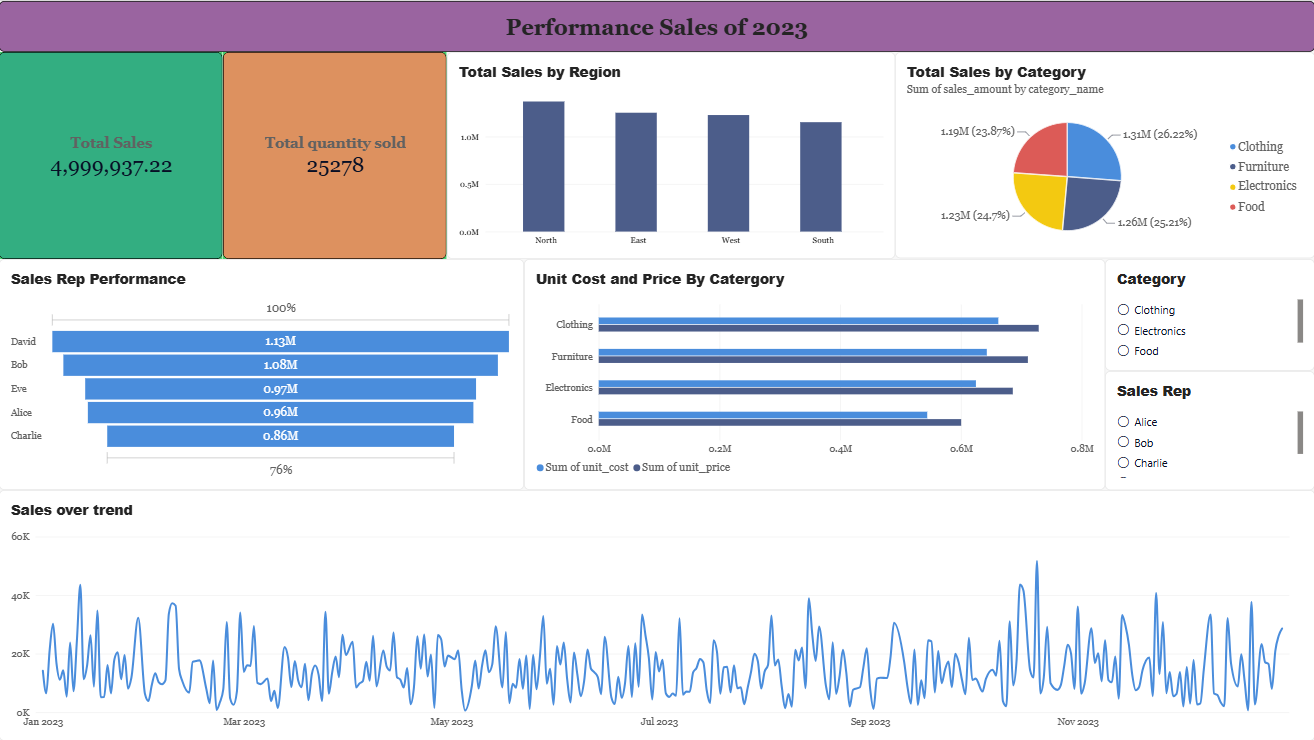

What the dashboard file says about the page in this screenshot:
{"tool":"powerbi","page":{"name":"Page 1","canvas":[1920,1080],"ordinal":0},"visuals":[{"type":"cardVisual","title":"Total Sales","fields":{"Data":["Sum(curated fact_sales.sales_amount)"]},"box":[0,74.4,326.8,302],"z":0},{"type":"textbox","box":[0,0,1920,74.4],"z":1000},{"type":"cardVisual","title":"Total Sales","fields":{"Data":["Sum(curated fact_sales.quantity_sold)"]},"box":[326.8,74.4,326.8,302],"z":2000},{"type":"columnChart","title":"Total Sales by Region","fields":{"Category":["curated dim_region.region"],"Y":["Sum(curated fact_sales.sales_amount)"]},"box":[653.6,74.4,653.6,302],"z":3000},{"type":"lineChart","title":"Sales over trend ","fields":{"Category":["curated dim_date.full_date"],"Y":["Sum(curated fact_sales.sales_amount)"]},"box":[0,713.4,1920,366.2],"z":4000},{"type":"funnel","title":"Sales Rep Performance","fields":{"Category":["curated dim_sales_rep.sales_rep"],"Y":["Sum(curated fact_sales.sales_amount)"]},"box":[0,376.4,766,337],"z":5000},{"type":"clusteredBarChart","title":"Unit Cost and Price By Catergory","fields":{"Category":["curated dim_category.category_name"],"Y":["Sum(curated fact_sales.unit_cost)","Sum(curated fact_sales.unit_price)"]},"box":[766,376.4,847.7,337],"z":6000},{"type":"pieChart","title":"Total Sales by Category","fields":{"Category":["curated dim_category.category_name"],"Y":["Sum(curated fact_sales.sales_amount)"]},"box":[1307.2,74.4,612.8,300.5],"z":7000},{"type":"listSlicer","title":"Category","fields":{"Values":["curated dim_category.category_name"]},"box":[1613.6,376.4,306.4,163.4],"z":8000},{"type":"listSlicer","title":"Sales Rep","fields":{"Values":["curated dim_sales_rep.sales_rep"]},"box":[1613.6,539.8,306.4,173.6],"z":9000}]}

Visuals, with their boxes in screenshot pixels (x1, y1, x2, y2), scaled from the page's 1920x1080 canvas onto the 1314x740 screenshot:
"Total Sales" cardVisual: crop(0, 51, 224, 258)
textbox: crop(0, 0, 1313, 51)
"Total Sales" cardVisual: crop(224, 51, 447, 258)
"Total Sales by Region" columnChart: crop(447, 51, 895, 258)
"Sales over trend " lineChart: crop(0, 489, 1313, 739)
"Sales Rep Performance" funnel: crop(0, 258, 524, 489)
"Unit Cost and Price By Catergory" clusteredBarChart: crop(524, 258, 1104, 489)
"Total Sales by Category" pieChart: crop(895, 51, 1313, 257)
"Category" listSlicer: crop(1104, 258, 1313, 370)
"Sales Rep" listSlicer: crop(1104, 370, 1313, 489)
